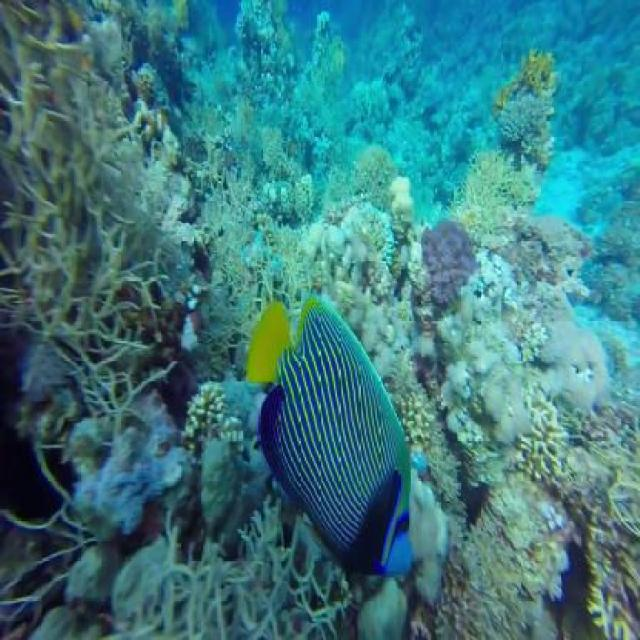AngelFish: (246, 296, 418, 576)
